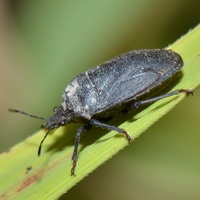insect: (0, 123, 127, 199), (107, 92, 185, 138), (160, 53, 199, 93)
